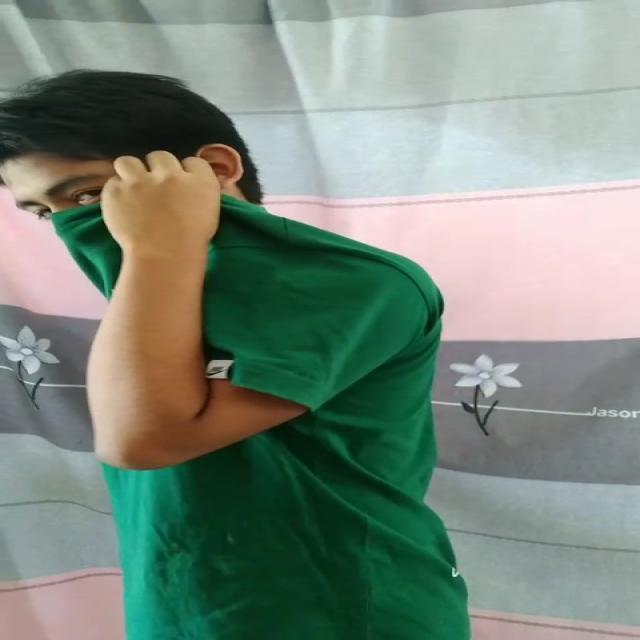8_ropa_rostro: (44, 185, 320, 295)
